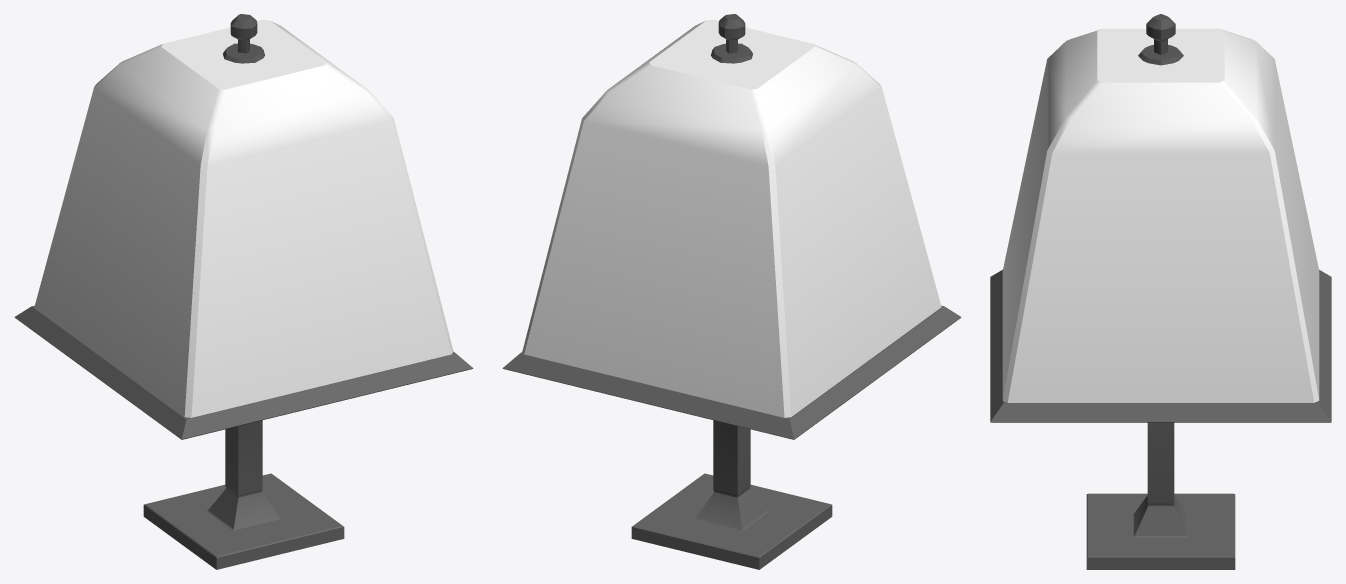
The model's file is desk_lamp.glb.
The picture shows the model from 3 angles, left to right: view 1: azimuth 30°, elevation 25°; view 2: azimuth 150°, elevation 25°; view 3: azimuth 270°, elevation 25°; orthographic projection.
Visible parts, largest first — view 1: Cube.002, Cube.001; view 2: Cube.002, Cube.001; view 3: Cube.002, Cube.001.
Part boxes in pixels (x1,y1,x2,y2): Cube.002: (34, 14, 453, 417); Cube.001: (14, 305, 473, 569); Cube.002: (522, 14, 941, 417); Cube.001: (502, 305, 961, 569); Cube.002: (1002, 14, 1319, 402); Cube.001: (990, 269, 1331, 569).
Size of the model in its own units: 0.2922 by 0.4889 by 0.2902.
Materials: 2 (1 with a texture image).
